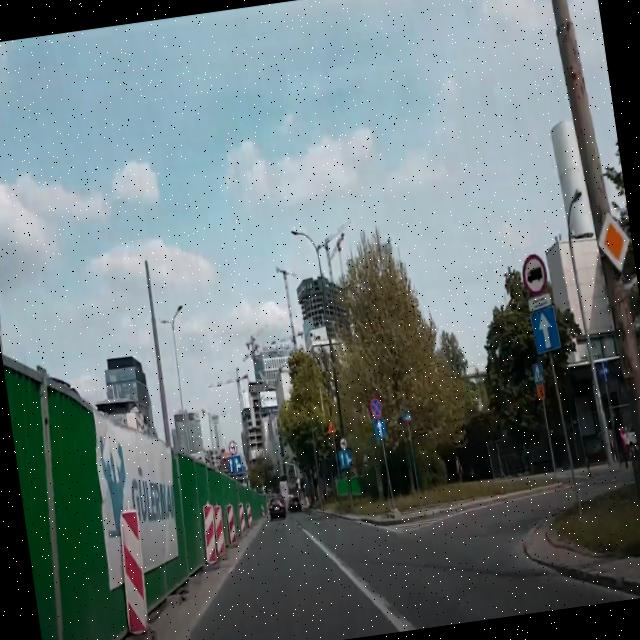Droga z pierwszenstwem: (593, 210, 635, 274)
Dzieci: (326, 419, 336, 435)
Zakaz zatrzymywania sie: (369, 396, 383, 418)
